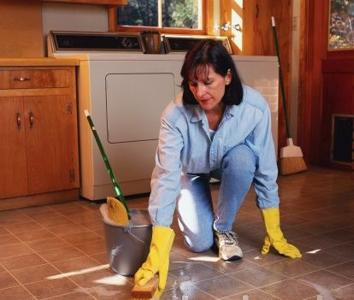person: (132, 38, 302, 300)
